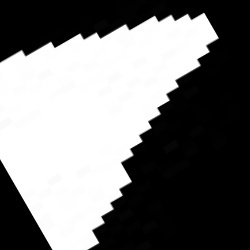spot: (1, 13, 219, 249)
